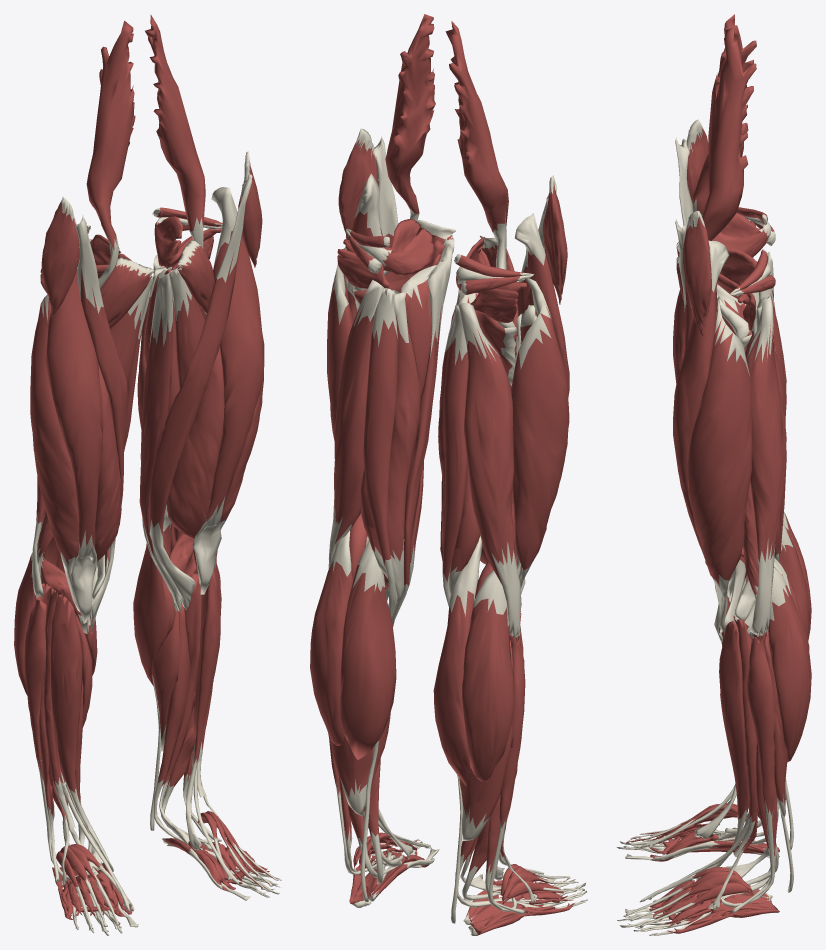
File: muscular-lower-limb-mobile.glb
3 renders of one model, left to right at view 1: azimuth 30°, elevation 25°; view 2: azimuth 150°, elevation 25°; view 3: azimuth 270°, elevation 25°, orthographic. The views are drawn at different scales.
Parts seen in each view (by area): view 1: za.rectus-femoris-muscle-r, za.rectus-femoris-muscle-l, za.sartorius-muscle-l, za.vastus-lateralis-muscle-r, za.psoas-major-r, za.vastus-medialis-muscle-l, za.gracilis-muscle-l, za.tibialis-anterior-muscle-r, za.psoas-major-l, za.sartorius-muscle-r, za.medial-head-of-gastrocnemius-l, za.tibialis-anterior-muscle-l (+31 smaller); view 2: za.vastus-lateralis-muscle-r, za.long-head-of-biceps-femoris-r, za.medial-head-of-gastrocnemius-l, za.lateral-head-of-gastrocnemius-r, za.semitendinosus-muscle-l, za.long-head-of-biceps-femoris-l, za.semimembranosus-muscle-l, za.psoas-major-l, za.psoas-major-r, za.medial-head-of-gastrocnemius-r, za.lateral-head-of-gastrocnemius-l, za.semitendinosus-muscle-r (+33 smaller); view 3: za.vastus-lateralis-muscle-l, za.long-head-of-biceps-femoris-l, za.psoas-major-l, za.lateral-head-of-gastrocnemius-l, za.rectus-femoris-muscle-l, za.fibularis-longus-muscle-l, za.tibialis-anterior-muscle-l, za.tensor-fasciae-latae-l, za.extensor-digitorum-longus-l, za.extensor-digitorum-brevis-l, za.psoas-major-r, za.obturator-internus-r (+25 smaller).
Boxes of the visible parts, left/top/right/bottom form: za.rectus-femoris-muscle-r: left=46, top=246, right=102, bottom=623; za.rectus-femoris-muscle-l: left=192, top=187, right=264, bottom=594; za.sartorius-muscle-l: left=149, top=174, right=252, bottom=609; za.vastus-lateralis-muscle-r: left=30, top=294, right=79, bottom=611; za.psoas-major-r: left=86, top=20, right=135, bottom=288; za.vastus-medialis-muscle-l: left=166, top=347, right=224, bottom=571; za.gracilis-muscle-l: left=139, top=270, right=181, bottom=611; za.tibialis-anterior-muscle-r: left=50, top=594, right=113, bottom=871; za.psoas-major-l: left=145, top=14, right=205, bottom=248; za.sartorius-muscle-r: left=74, top=215, right=127, bottom=632; za.medial-head-of-gastrocnemius-l: left=133, top=515, right=175, bottom=685; za.tibialis-anterior-muscle-l: left=185, top=558, right=220, bottom=850; za.vastus-lateralis-muscle-r: left=511, top=278, right=569, bottom=588; za.long-head-of-biceps-femoris-r: left=458, top=303, right=521, bottom=637; za.medial-head-of-gastrocnemius-l: left=339, top=540, right=396, bottom=759; za.lateral-head-of-gastrocnemius-r: left=462, top=570, right=513, bottom=781; za.semitendinosus-muscle-l: left=363, top=288, right=398, bottom=618; za.long-head-of-biceps-femoris-l: left=328, top=280, right=383, bottom=568; za.semimembranosus-muscle-l: left=360, top=289, right=419, bottom=603; za.psoas-major-l: left=354, top=14, right=435, bottom=290; za.psoas-major-r: left=445, top=21, right=514, bottom=327; za.medial-head-of-gastrocnemius-r: left=433, top=535, right=482, bottom=785; za.lateral-head-of-gastrocnemius-l: left=310, top=530, right=352, bottom=745; za.semitendinosus-muscle-r: left=442, top=305, right=468, bottom=606; za.vastus-lateralis-muscle-l: left=687, top=296, right=752, bottom=632; za.long-head-of-biceps-femoris-l: left=745, top=295, right=786, bottom=637; za.psoas-major-l: left=702, top=27, right=756, bottom=340; za.lateral-head-of-gastrocnemius-l: left=768, top=567, right=811, bottom=761; za.rectus-femoris-muscle-l: left=673, top=240, right=729, bottom=642; za.fibularis-longus-muscle-l: left=707, top=630, right=774, bottom=907; za.tibialis-anterior-muscle-l: left=695, top=621, right=749, bottom=880; za.tensor-fasciae-latae-l: left=683, top=211, right=711, bottom=336; za.extensor-digitorum-longus-l: left=733, top=616, right=757, bottom=857; za.extensor-digitorum-brevis-l: left=625, top=870, right=753, bottom=927; za.psoas-major-r: left=692, top=14, right=756, bottom=215; za.obturator-internus-r: left=712, top=213, right=770, bottom=257.
Size of the model in its own units: 0.3174 by 1.15 by 0.2346.
